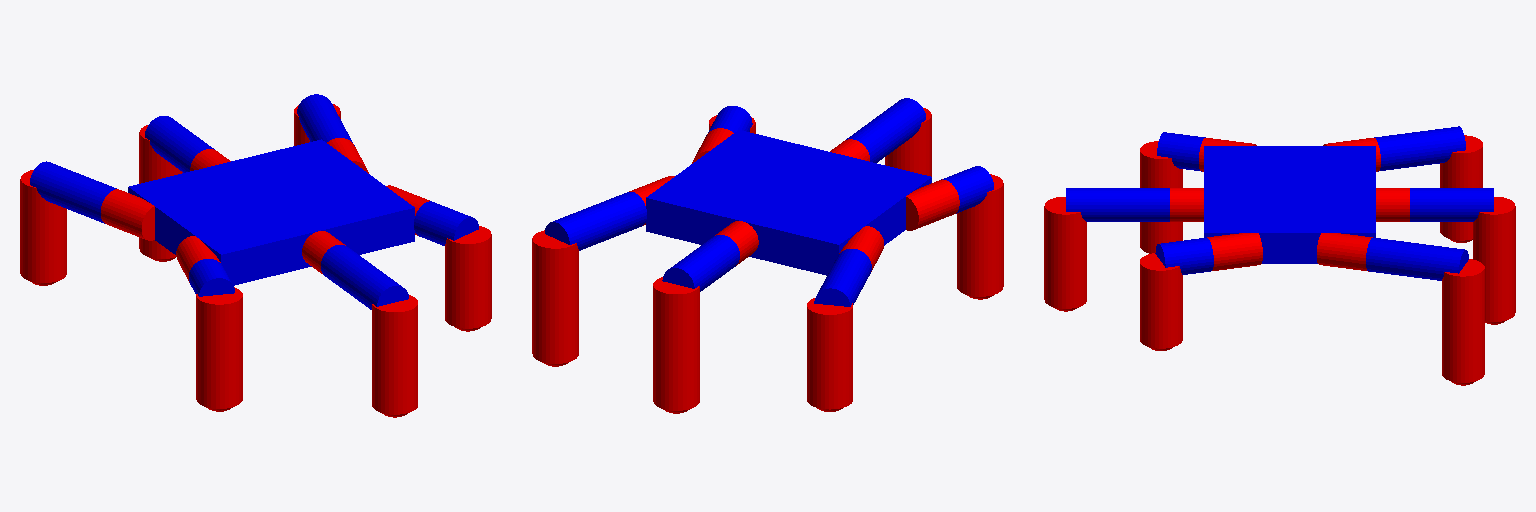
--- Facts derived from the render (not from the file) ---
Views: 3 orthographic renders of the robot side by side, from view 1: azimuth 30°, elevation 25°; view 2: azimuth 150°, elevation 25°; view 3: azimuth 270°, elevation 25°.
Model pexod with 19 links and 18 joints (18 revolute), rooted at base_link, posed every joint at zero.
Links seen in each view (by area): view 1: base_link, leg_5_3, leg_4_3, leg_3_3, leg_0_3, leg_4_2, leg_0_2, leg_1_2, leg_0_1, leg_3_2, leg_2_2, leg_1_3 (+3 smaller); view 2: base_link, leg_1_3, leg_2_3, leg_0_3, leg_5_3, leg_2_2, leg_4_2, leg_1_2, leg_0_2, leg_5_1, leg_4_3, leg_5_2 (+3 smaller); view 3: base_link, leg_2_3, leg_4_3, leg_1_3, leg_3_3, leg_4_2, leg_2_2, leg_0_2, leg_1_2, leg_5_3, leg_0_3, leg_2_1 (+5 smaller).
Boxes of the visible links, x1,y1,x2,y2 form: base_link: (128, 139, 414, 285); leg_5_3: (196, 287, 242, 411); leg_4_3: (372, 295, 417, 417); leg_3_3: (445, 226, 491, 331); leg_0_3: (20, 170, 66, 285); leg_4_2: (321, 245, 408, 309); leg_0_2: (30, 161, 116, 223); leg_1_2: (145, 116, 214, 172); leg_0_1: (101, 189, 154, 240); leg_3_2: (414, 201, 478, 245); leg_2_2: (297, 94, 354, 145); leg_1_3: (139, 125, 182, 261); base_link: (646, 130, 931, 275); leg_1_3: (653, 277, 699, 413); leg_2_3: (532, 230, 578, 366); leg_0_3: (807, 298, 852, 411); leg_5_3: (957, 174, 1003, 299); leg_2_2: (545, 192, 646, 250); leg_4_2: (846, 98, 925, 162); leg_1_2: (662, 235, 739, 291); leg_0_2: (814, 249, 871, 306); leg_5_1: (906, 179, 959, 230); leg_4_3: (885, 108, 931, 176); leg_5_2: (941, 166, 993, 213); base_link: (1204, 146, 1375, 263); leg_2_3: (1442, 259, 1484, 385); leg_4_3: (1044, 197, 1086, 311); leg_1_3: (1473, 197, 1515, 324); leg_3_3: (1140, 253, 1182, 350); leg_4_2: (1066, 188, 1169, 221); leg_2_2: (1366, 238, 1468, 280); leg_0_2: (1374, 126, 1465, 171); leg_1_2: (1410, 188, 1493, 221); leg_5_3: (1140, 141, 1182, 253); leg_0_3: (1440, 135, 1482, 242); leg_2_1: (1317, 233, 1372, 271).
Size in the robot's own frame: 0.3894 by 0.5484 by 0.1706 metres.
Geometry: primitives only (box / cylinder / sphere), no mesh files.

URDF robot description (pexod):
<?xml version="1.0" ?>
<!-- =================================================================================== -->
<!-- |    This document was autogenerated by xacro from pexod.xacro                    | -->
<!-- |    EDITING THIS FILE BY HAND IS NOT RECOMMENDED                                 | -->
<!-- =================================================================================== -->
<robot name="pexod" xmlns:xacro="http://www.ros.org/wiki/xacro">
  <!-- <xacro:include filename="$(find pexod_description)/urdf/pexod_control.xacro" /> -->
  <!-- MATERIALS -->
  <material name="Blue">
    <color rgba="0 0 1 1"/>
  </material>
  <material name="Red">
    <color rgba="1 0 0 1"/>
  </material>
  <material name="Green">
    <color rgba="0 1 0 1"/>
  </material>
  <material name="Yellow">
    <color rgba="1 1 0 1"/>
  </material>
  <material name="LightGrey">
    <color rgba="0.6 0.6 0.6 1.0"/>
  </material>
  <!-- END OF MATERIALS -->
  <!-- XACRO MACROS FOR VISUALS AND COLLISIONS -->
  <!-- END OF XACRO MACROS -->
  <!-- TORSO -->
  <link name="base_link">
    <visual>
      <origin rpy="0 0 0" xyz="0 0 0"/>
      <geometry>
        <box size="0.24 0.2 0.04"/>
      </geometry>
      <material name="Blue"/>
    </visual>
    <collision>
      <origin rpy="0 0 0" xyz="0 0 0"/>
      <geometry>
        <box size="0.24 0.2 0.04"/>
      </geometry>
    </collision>
    <inertial>
      <!-- CENTER OF MASS -->
      <origin rpy="0 0 0" xyz="0 0 0"/>
      <mass value="1.031"/>
      <!-- box inertia: 1/12*m(y^2+z^2), ... -->
      <inertia ixx="0.00357413333333" ixy="0" ixz="0" iyy="0.00508626666667" iyz="0" izz="0.00838546666667"/>
    </inertial>
  </link>
  <!-- XACRO MACRO FOR LEGS LINKS/JOINTS -->
  <!-- END OF LEG LINKS/JOINTS -->
  <joint name="body_leg_2" type="revolute">
    <parent link="base_link"/>
    <child link="leg_2_1"/>
    <limit effort="30.0" lower="-1.57079632679" upper="1.57079632679" velocity="7.0"/>
    <origin rpy="0 0 -0.3" xyz="0.11 0.04 0"/>
    <!-- <xacro:if value="${index == 5 or index == 4 or index == 3}">
                <axis xyz="0 0 1"/>
            </xacro:if>
            <xacro:if value="${index == 2 or index == 1 or index == 0}"> -->
    <axis xyz="0 0 1"/>
    <!-- </xacro:if> -->
    <dynamics damping="0.0"/>
  </joint>
  <link name="leg_2_1">
    <visual>
      <origin rpy="1.57079632679 0 0" xyz="0.01 0.03 0"/>
      <geometry>
        <cylinder length="0.06" radius="0.02"/>
      </geometry>
      <material name="Red"/>
    </visual>
    <collision>
      <origin rpy="1.57079632679 0 0" xyz="0.01 0.03 0"/>
      <geometry>
        <box size="0.02 0.02 0.06"/>
      </geometry>
    </collision>
    <inertial>
      <!-- CENTER OF MASS -->
      <origin rpy="1.57079632679 0 0" xyz="0.01 0.03 0"/>
      <mass value="0.02"/>
      <!-- box inertia: 1/12*m(y^2+z^2), ... -->
      <inertia ixx="6.66666666667e-06" ixy="0" ixz="0" iyy="6.66666666667e-06" iyz="0" izz="1.33333333333e-06"/>
    </inertial>
  </link>
  <joint name="leg_2_1_2" type="revolute">
    <parent link="leg_2_1"/>
    <child link="leg_2_2"/>
    <limit effort="30.0" lower="-0.78539816339" upper="0.78539816339" velocity="7.0"/>
    <origin rpy="0 0 0" xyz="0 0.06 0"/>
    <axis xyz="1 0 0"/>
    <dynamics damping="0.0"/>
  </joint>
  <link name="leg_2_2">
    <visual>
      <origin rpy="1.57079632679 0 0" xyz="0.01 0.056643253155 0"/>
      <geometry>
        <cylinder length="0.11328650631" radius="0.02"/>
      </geometry>
      <material name="Blue"/>
    </visual>
    <collision>
      <origin rpy="1.57079632679 0 0" xyz="0.01 0.056643253155 0"/>
      <geometry>
        <box size="0.02 0.02 0.11328650631"/>
      </geometry>
    </collision>
    <inertial>
      <!-- CENTER OF MASS -->
      <origin rpy="1.57079632679 0 0" xyz="0.01 0.056643253155 0"/>
      <mass value="0.184"/>
      <!-- box inertia: 1/12*m(y^2+z^2), ... -->
      <inertia ixx="0.000202918765183" ixy="0" ixz="0" iyy="0.000202918765183" iyz="0" izz="1.22666666667e-05"/>
    </inertial>
  </link>
  <joint name="leg_2_2_3" type="revolute">
    <parent link="leg_2_2"/>
    <child link="leg_2_3"/>
    <limit effort="30.0" lower="-0.78539816339" upper="0.78539816339" velocity="7.0"/>
    <origin rpy="-1.57079632679 0 0" xyz="0 0.11328650631 0"/>
    <axis xyz="-1 0 0"/>
    <dynamics damping="0.0"/>
  </joint>
  <link name="leg_2_3">
    <visual>
      <origin rpy="1.57079632679 0 0" xyz="0.0125 0.0683328255935 0"/>
      <geometry>
        <cylinder length="0.136665651187" radius="0.025"/>
      </geometry>
      <material name="Red"/>
    </visual>
    <visual>
      <origin rpy="1.57079632679 0 0" xyz="0.0125 0.124165651187 0"/>
      <geometry>
        <sphere radius="0.025"/>
      </geometry>
      <material name="Red"/>
    </visual>
    <collision>
      <origin rpy="1.57079632679 0 0" xyz="0.0125 0.0683328255935 0"/>
      <geometry>
        <box size="0.025 0.025 0.136665651187"/>
      </geometry>
    </collision>
    <collision>
      <origin rpy="1.57079632679 0 0" xyz="0.0125 0.124165651187 0"/>
      <geometry>
        <sphere radius="0.025"/>
      </geometry>
      <material name="Red"/>
    </collision>
    <inertial>
      <!-- CENTER OF MASS -->
      <origin rpy="1.57079632679 0 0" xyz="0.0125 0.0683328255935 0"/>
      <mass value="0.04"/>
      <!-- box inertia: 1/12*m(y^2+z^2), ... -->
      <inertia ixx="6.43416673812e-05" ixy="0" ixz="0" iyy="6.43416673812e-05" iyz="0" izz="4.16666666667e-06"/>
    </inertial>
  </link>
  <joint name="body_leg_3" type="revolute">
    <parent link="base_link"/>
    <child link="leg_3_1"/>
    <limit effort="30.0" lower="-1.57079632679" upper="1.57079632679" velocity="7.0"/>
    <origin rpy="0 0 0.3" xyz="0.11 -0.04 0"/>
    <!-- <xacro:if value="${index == 5 or index == 4 or index == 3}">
                <axis xyz="0 0 1"/>
            </xacro:if>
            <xacro:if value="${index == 2 or index == 1 or index == 0}"> -->
    <axis xyz="0 0 1"/>
    <!-- </xacro:if> -->
    <dynamics damping="0.0"/>
  </joint>
  <link name="leg_3_1">
    <visual>
      <origin rpy="1.57079632679 0 0" xyz="0.01 -0.03 0"/>
      <geometry>
        <cylinder length="0.06" radius="0.02"/>
      </geometry>
      <material name="Red"/>
    </visual>
    <collision>
      <origin rpy="1.57079632679 0 0" xyz="0.01 -0.03 0"/>
      <geometry>
        <box size="0.02 0.02 0.06"/>
      </geometry>
    </collision>
    <inertial>
      <!-- CENTER OF MASS -->
      <origin rpy="1.57079632679 0 0" xyz="0.01 -0.03 0"/>
      <mass value="0.02"/>
      <!-- box inertia: 1/12*m(y^2+z^2), ... -->
      <inertia ixx="6.66666666667e-06" ixy="0" ixz="0" iyy="6.66666666667e-06" iyz="0" izz="1.33333333333e-06"/>
    </inertial>
  </link>
  <joint name="leg_3_1_2" type="revolute">
    <parent link="leg_3_1"/>
    <child link="leg_3_2"/>
    <limit effort="30.0" lower="-0.78539816339" upper="0.78539816339" velocity="7.0"/>
    <origin rpy="0 0 0" xyz="0 -0.06 0"/>
    <axis xyz="-1 0 0"/>
    <dynamics damping="0.0"/>
  </joint>
  <link name="leg_3_2">
    <visual>
      <origin rpy="1.57079632679 0 0" xyz="0.01 -0.029395581462 0"/>
      <geometry>
        <cylinder length="0.0587911629241" radius="0.02"/>
      </geometry>
      <material name="Blue"/>
    </visual>
    <collision>
      <origin rpy="1.57079632679 0 0" xyz="0.01 -0.029395581462 0"/>
      <geometry>
        <box size="0.02 0.02 0.0587911629241"/>
      </geometry>
    </collision>
    <inertial>
      <!-- CENTER OF MASS -->
      <origin rpy="1.57079632679 0 0" xyz="0.01 -0.029395581462 0"/>
      <mass value="0.184"/>
      <!-- box inertia: 1/12*m(y^2+z^2), ... -->
      <inertia ixx="5.91314795155e-05" ixy="0" ixz="0" iyy="5.91314795155e-05" iyz="0" izz="1.22666666667e-05"/>
    </inertial>
  </link>
  <joint name="leg_3_2_3" type="revolute">
    <parent link="leg_3_2"/>
    <child link="leg_3_3"/>
    <limit effort="30.0" lower="-0.78539816339" upper="0.78539816339" velocity="7.0"/>
    <origin rpy="1.57079632679 0 0" xyz="0 -0.0587911629241 0"/>
    <axis xyz="1 0 0"/>
    <dynamics damping="0.0"/>
  </joint>
  <link name="leg_3_3">
    <visual>
      <origin rpy="1.57079632679 0 0" xyz="0.0125 -0.050085609076 0"/>
      <geometry>
        <cylinder length="0.100171218152" radius="0.025"/>
      </geometry>
      <material name="Red"/>
    </visual>
    <visual>
      <origin rpy="1.57079632679 0 0" xyz="0.0125 -0.087671218152 0"/>
      <geometry>
        <sphere radius="0.025"/>
      </geometry>
      <material name="Red"/>
    </visual>
    <collision>
      <origin rpy="1.57079632679 0 0" xyz="0.0125 -0.050085609076 0"/>
      <geometry>
        <box size="0.025 0.025 0.100171218152"/>
      </geometry>
    </collision>
    <collision>
      <origin rpy="1.57079632679 0 0" xyz="0.0125 -0.087671218152 0"/>
      <geometry>
        <sphere radius="0.025"/>
      </geometry>
      <material name="Red"/>
    </collision>
    <inertial>
      <!-- CENTER OF MASS -->
      <origin rpy="1.57079632679 0 0" xyz="0.0125 -0.050085609076 0"/>
      <mass value="0.04"/>
      <!-- box inertia: 1/12*m(y^2+z^2), ... -->
      <inertia ixx="3.55309098202e-05" ixy="0" ixz="0" iyy="3.55309098202e-05" iyz="0" izz="4.16666666667e-06"/>
    </inertial>
  </link>
  <joint name="body_leg_0" type="revolute">
    <parent link="base_link"/>
    <child link="leg_0_1"/>
    <limit effort="30.0" lower="-1.57079632679" upper="1.57079632679" velocity="7.0"/>
    <origin rpy="0 0 0.3" xyz="-0.13 0.04 0"/>
    <!-- <xacro:if value="${index == 5 or index == 4 or index == 3}">
                <axis xyz="0 0 1"/>
            </xacro:if>
            <xacro:if value="${index == 2 or index == 1 or index == 0}"> -->
    <axis xyz="0 0 1"/>
    <!-- </xacro:if> -->
    <dynamics damping="0.0"/>
  </joint>
  <link name="leg_0_1">
    <visual>
      <origin rpy="1.57079632679 0 0" xyz="0.01 0.03 0"/>
      <geometry>
        <cylinder length="0.06" radius="0.02"/>
      </geometry>
      <material name="Red"/>
    </visual>
    <collision>
      <origin rpy="1.57079632679 0 0" xyz="0.01 0.03 0"/>
      <geometry>
        <box size="0.02 0.02 0.06"/>
      </geometry>
    </collision>
    <inertial>
      <!-- CENTER OF MASS -->
      <origin rpy="1.57079632679 0 0" xyz="0.01 0.03 0"/>
      <mass value="0.02"/>
      <!-- box inertia: 1/12*m(y^2+z^2), ... -->
      <inertia ixx="6.66666666667e-06" ixy="0" ixz="0" iyy="6.66666666667e-06" iyz="0" izz="1.33333333333e-06"/>
    </inertial>
  </link>
  <joint name="leg_0_1_2" type="revolute">
    <parent link="leg_0_1"/>
    <child link="leg_0_2"/>
    <limit effort="30.0" lower="-0.78539816339" upper="0.78539816339" velocity="7.0"/>
    <origin rpy="0 0 0" xyz="0 0.06 0"/>
    <axis xyz="1 0 0"/>
    <dynamics damping="0.0"/>
  </joint>
  <link name="leg_0_2">
    <visual>
      <origin rpy="1.57079632679 0 0" xyz="0.01 0.051933983587 0"/>
      <geometry>
        <cylinder length="0.103867967174" radius="0.02"/>
      </geometry>
      <material name="Blue"/>
    </visual>
    <collision>
      <origin rpy="1.57079632679 0 0" xyz="0.01 0.051933983587 0"/>
      <geometry>
        <box size="0.02 0.02 0.103867967174"/>
      </geometry>
    </collision>
    <inertial>
      <!-- CENTER OF MASS -->
      <origin rpy="1.57079632679 0 0" xyz="0.01 0.051933983587 0"/>
      <mass value="0.184"/>
      <!-- box inertia: 1/12*m(y^2+z^2), ... -->
      <inertia ixx="0.000171557837275" ixy="0" ixz="0" iyy="0.000171557837275" iyz="0" izz="1.22666666667e-05"/>
    </inertial>
  </link>
  <joint name="leg_0_2_3" type="revolute">
    <parent link="leg_0_2"/>
    <child link="leg_0_3"/>
    <limit effort="30.0" lower="-0.78539816339" upper="0.78539816339" velocity="7.0"/>
    <origin rpy="-1.57079632679 0 0" xyz="0 0.103867967174 0"/>
    <axis xyz="-1 0 0"/>
    <dynamics damping="0.0"/>
  </joint>
  <link name="leg_0_3">
    <visual>
      <origin rpy="1.57079632679 0 0" xyz="0.0125 0.0560802887525 0"/>
      <geometry>
        <cylinder length="0.112160577505" radius="0.025"/>
      </geometry>
      <material name="Red"/>
    </visual>
    <visual>
      <origin rpy="1.57079632679 0 0" xyz="0.0125 0.099660577505 0"/>
      <geometry>
        <sphere radius="0.025"/>
      </geometry>
      <material name="Red"/>
    </visual>
    <collision>
      <origin rpy="1.57079632679 0 0" xyz="0.0125 0.0560802887525 0"/>
      <geometry>
        <box size="0.025 0.025 0.112160577505"/>
      </geometry>
    </collision>
    <collision>
      <origin rpy="1.57079632679 0 0" xyz="0.0125 0.099660577505 0"/>
      <geometry>
        <sphere radius="0.025"/>
      </geometry>
      <material name="Red"/>
    </collision>
    <inertial>
      <!-- CENTER OF MASS -->
      <origin rpy="1.57079632679 0 0" xyz="0.0125 0.0560802887525 0"/>
      <mass value="0.04"/>
      <!-- box inertia: 1/12*m(y^2+z^2), ... -->
      <inertia ixx="4.40166504875e-05" ixy="0" ixz="0" iyy="4.40166504875e-05" iyz="0" izz="4.16666666667e-06"/>
    </inertial>
  </link>
  <joint name="body_leg_5" type="revolute">
    <parent link="base_link"/>
    <child link="leg_5_1"/>
    <limit effort="30.0" lower="-1.57079632679" upper="1.57079632679" velocity="7.0"/>
    <origin rpy="0 0 -0.3" xyz="-0.13 -0.04 0"/>
    <!-- <xacro:if value="${index == 5 or index == 4 or index == 3}">
                <axis xyz="0 0 1"/>
            </xacro:if>
            <xacro:if value="${index == 2 or index == 1 or index == 0}"> -->
    <axis xyz="0 0 1"/>
    <!-- </xacro:if> -->
    <dynamics damping="0.0"/>
  </joint>
  <link name="leg_5_1">
    <visual>
      <origin rpy="1.57079632679 0 0" xyz="0.01 -0.03 0"/>
      <geometry>
        <cylinder length="0.06" radius="0.02"/>
      </geometry>
      <material name="Red"/>
    </visual>
    <collision>
      <origin rpy="1.57079632679 0 0" xyz="0.01 -0.03 0"/>
      <geometry>
        <box size="0.02 0.02 0.06"/>
      </geometry>
    </collision>
    <inertial>
      <!-- CENTER OF MASS -->
      <origin rpy="1.57079632679 0 0" xyz="0.01 -0.03 0"/>
      <mass value="0.02"/>
      <!-- box inertia: 1/12*m(y^2+z^2), ... -->
      <inertia ixx="6.66666666667e-06" ixy="0" ixz="0" iyy="6.66666666667e-06" iyz="0" izz="1.33333333333e-06"/>
    </inertial>
  </link>
  <joint name="leg_5_1_2" type="revolute">
    <parent link="leg_5_1"/>
    <child link="leg_5_2"/>
    <limit effort="30.0" lower="-0.78539816339" upper="0.78539816339" velocity="7.0"/>
    <origin rpy="0 0 0" xyz="0 -0.06 0"/>
    <axis xyz="-1 0 0"/>
    <dynamics damping="0.0"/>
  </joint>
  <link name="leg_5_2">
    <visual>
      <origin rpy="1.57079632679 0 0" xyz="0.01 -0.0254579998165 0"/>
      <geometry>
        <cylinder length="0.050915999633" radius="0.02"/>
      </geometry>
      <material name="Blue"/>
    </visual>
    <collision>
      <origin rpy="1.57079632679 0 0" xyz="0.01 -0.0254579998165 0"/>
      <geometry>
        <box size="0.02 0.02 0.050915999633"/>
      </geometry>
    </collision>
    <inertial>
      <!-- CENTER OF MASS -->
      <origin rpy="1.57079632679 0 0" xyz="0.01 -0.0254579998165 0"/>
      <mass value="0.184"/>
      <!-- box inertia: 1/12*m(y^2+z^2), ... -->
      <inertia ixx="4.58840649523e-05" ixy="0" ixz="0" iyy="4.58840649523e-05" iyz="0" izz="1.22666666667e-05"/>
    </inertial>
  </link>
  <joint name="leg_5_2_3" type="revolute">
    <parent link="leg_5_2"/>
    <child link="leg_5_3"/>
    <limit effort="30.0" lower="-0.78539816339" upper="0.78539816339" velocity="7.0"/>
    <origin rpy="1.57079632679 0 0" xyz="0 -0.050915999633 0"/>
    <axis xyz="1 0 0"/>
    <dynamics damping="0.0"/>
  </joint>
  <link name="leg_5_3">
    <visual>
      <origin rpy="1.57079632679 0 0" xyz="0.0125 -0.0617218844995 0"/>
      <geometry>
        <cylinder length="0.123443768999" radius="0.025"/>
      </geometry>
      <material name="Red"/>
    </visual>
    <visual>
      <origin rpy="1.57079632679 0 0" xyz="0.0125 -0.110943768999 0"/>
      <geometry>
        <sphere radius="0.025"/>
      </geometry>
      <material name="Red"/>
    </visual>
    <collision>
      <origin rpy="1.57079632679 0 0" xyz="0.0125 -0.0617218844995 0"/>
      <geometry>
        <box size="0.025 0.025 0.123443768999"/>
      </geometry>
    </collision>
    <collision>
      <origin rpy="1.57079632679 0 0" xyz="0.0125 -0.110943768999 0"/>
      <geometry>
        <sphere radius="0.025"/>
      </geometry>
      <material name="Red"/>
    </collision>
    <inertial>
      <!-- CENTER OF MASS -->
      <origin rpy="1.57079632679 0 0" xyz="0.0125 -0.0617218844995 0"/>
      <mass value="0.04"/>
      <!-- box inertia: 1/12*m(y^2+z^2), ... -->
      <inertia ixx="5.28778803489e-05" ixy="0" ixz="0" iyy="5.28778803489e-05" iyz="0" izz="4.16666666667e-06"/>
    </inertial>
  </link>
  <joint name="body_leg_1" type="revolute">
    <parent link="base_link"/>
    <child link="leg_1_1"/>
    <limit effort="30.0" lower="-1.57079632679" upper="1.57079632679" velocity="7.0"/>
    <origin rpy="0 0 0" xyz="-0.01 0.08 0"/>
    <!-- <xacro:if value="${index == 5 or index == 4 or index == 3}">
                <axis xyz="0 0 1"/>
            </xacro:if>
            <xacro:if value="${index == 2 or index == 1 or index == 0}"> -->
    <axis xyz="0 0 1"/>
    <!-- </xacro:if> -->
    <dynamics damping="0.0"/>
  </joint>
  <link name="leg_1_1">
    <visual>
      <origin rpy="1.57079632679 0 0" xyz="0.01 0.03 0"/>
      <geometry>
        <cylinder length="0.06" radius="0.02"/>
      </geometry>
      <material name="Red"/>
    </visual>
    <collision>
      <origin rpy="1.57079632679 0 0" xyz="0.01 0.03 0"/>
      <geometry>
        <box size="0.02 0.02 0.06"/>
      </geometry>
    </collision>
    <inertial>
      <!-- CENTER OF MASS -->
      <origin rpy="1.57079632679 0 0" xyz="0.01 0.03 0"/>
      <mass value="0.02"/>
      <!-- box inertia: 1/12*m(y^2+z^2), ... -->
      <inertia ixx="6.66666666667e-06" ixy="0" ixz="0" iyy="6.66666666667e-06" iyz="0" izz="1.33333333333e-06"/>
    </inertial>
  </link>
  <joint name="leg_1_1_2" type="revolute">
    <parent link="leg_1_1"/>
    <child link="leg_1_2"/>
    <limit effort="30.0" lower="-0.78539816339" upper="0.78539816339" velocity="7.0"/>
    <origin rpy="0 0 0" xyz="0 0.06 0"/>
    <axis xyz="1 0 0"/>
    <dynamics damping="0.0"/>
  </joint>
  <link name="leg_1_2">
    <visual>
      <origin rpy="1.57079632679 0 0" xyz="0.01 0.0488688450048 0"/>
      <geometry>
        <cylinder length="0.0977376900096" radius="0.02"/>
      </geometry>
      <material name="Blue"/>
    </visual>
    <collision>
      <origin rpy="1.57079632679 0 0" xyz="0.01 0.0488688450048 0"/>
      <geometry>
        <box size="0.02 0.02 0.0977376900096"/>
      </geometry>
    </collision>
    <inertial>
      <!-- CENTER OF MASS -->
      <origin rpy="1.57079632679 0 0" xyz="0.01 0.0488688450048 0"/>
      <mass value="0.184"/>
      <!-- box inertia: 1/12*m(y^2+z^2), ... -->
      <inertia ixx="0.000152607392742" ixy="0" ixz="0" iyy="0.000152607392742" iyz="0" izz="1.22666666667e-05"/>
    </inertial>
  </link>
  <joint name="leg_1_2_3" type="revolute">
    <parent link="leg_1_2"/>
    <child link="leg_1_3"/>
    <limit effort="30.0" lower="-0.78539816339" upper="0.78539816339" velocity="7.0"/>
    <origin rpy="-1.57079632679 0 0" xyz="0 0.0977376900096 0"/>
    <axis xyz="-1 0 0"/>
    <dynamics damping="0.0"/>
  </joint>
  <link name="leg_1_3">
    <visual>
      <origin rpy="1.57079632679 0 0" xyz="0.0125 0.069063156461 0"/>
      <geometry>
        <cylinder length="0.138126312922" radius="0.025"/>
      </geometry>
      <material name="Red"/>
    </visual>
    <visual>
      <origin rpy="1.57079632679 0 0" xyz="0.0125 0.125626312922 0"/>
      <geometry>
        <sphere radius="0.025"/>
      </geometry>
      <material name="Red"/>
    </visual>
    <collision>
      <origin rpy="1.57079632679 0 0" xyz="0.0125 0.069063156461 0"/>
      <geometry>
        <box size="0.025 0.025 0.138126312922"/>
      </geometry>
    </collision>
    <collision>
      <origin rpy="1.57079632679 0 0" xyz="0.0125 0.125626312922 0"/>
      <geometry>
        <sphere radius="0.025"/>
      </geometry>
      <material name="Red"/>
    </collision>
    <inertial>
      <!-- CENTER OF MASS -->
      <origin rpy="1.57079632679 0 0" xyz="0.0125 0.069063156461 0"/>
      <mass value="0.04"/>
      <!-- box inertia: 1/12*m(y^2+z^2), ... -->
      <inertia ixx="6.56795944048e-05" ixy="0" ixz="0" iyy="6.56795944048e-05" iyz="0" izz="4.16666666667e-06"/>
    </inertial>
  </link>
  <joint name="body_leg_4" type="revolute">
    <parent link="base_link"/>
    <child link="leg_4_1"/>
    <limit effort="30.0" lower="-1.57079632679" upper="1.57079632679" velocity="7.0"/>
    <origin rpy="0 0 0" xyz="-0.01 -0.08 0"/>
    <!-- <xacro:if value="${index == 5 or index == 4 or index == 3}">
                <axis xyz="0 0 1"/>
            </xacro:if>
            <xacro:if value="${index == 2 or index == 1 or index == 0}"> -->
    <axis xyz="0 0 1"/>
    <!-- </xacro:if> -->
    <dynamics damping="0.0"/>
  </joint>
  <link name="leg_4_1">
    <visual>
      <origin rpy="1.57079632679 0 0" xyz="0.01 -0.03 0"/>
      <geometry>
        <cylinder length="0.06" radius="0.02"/>
      </geometry>
      <material name="Red"/>
    </visual>
    <collision>
      <origin rpy="1.57079632679 0 0" xyz="0.01 -0.03 0"/>
      <geometry>
        <box size="0.02 0.02 0.06"/>
      </geometry>
    </collision>
    <inertial>
      <!-- CENTER OF MASS -->
      <origin rpy="1.57079632679 0 0" xyz="0.01 -0.03 0"/>
      <mass value="0.02"/>
      <!-- box inertia: 1/12*m(y^2+z^2), ... -->
      <inertia ixx="6.66666666667e-06" ixy="0" ixz="0" iyy="6.66666666667e-06" iyz="0" izz="1.33333333333e-06"/>
    </inertial>
  </link>
  <joint name="leg_4_1_2" type="revolute">
    <parent link="leg_4_1"/>
    <child link="leg_4_2"/>
    <limit effort="30.0" lower="-0.78539816339" upper="0.78539816339" velocity="7.0"/>
    <origin rpy="0 0 0" xyz="0 -0.06 0"/>
    <axis xyz="-1 0 0"/>
    <dynamics damping="0.0"/>
  </joint>
  <link name="leg_4_2">
    <visual>
      <origin rpy="1.57079632679 0 0" xyz="0.01 -0.0603408195785 0"/>
      <geometry>
        <cylinder length="0.120681639157" radius="0.02"/>
      </geometry>
      <material name="Blue"/>
    </visual>
    <collision>
      <origin rpy="1.57079632679 0 0" xyz="0.01 -0.0603408195785 0"/>
      <geometry>
        <box size="0.02 0.02 0.120681639157"/>
      </geometry>
    </collision>
    <inertial>
      <!-- CENTER OF MASS -->
      <origin rpy="1.57079632679 0 0" xyz="0.01 -0.0603408195785 0"/>
      <mass value="0.184"/>
      <!-- box inertia: 1/12*m(y^2+z^2), ... -->
      <inertia ixx="0.000229448889788" ixy="0" ixz="0" iyy="0.000229448889788" iyz="0" izz="1.22666666667e-05"/>
    </inertial>
  </link>
  <joint name="leg_4_2_3" type="revolute">
    <parent link="leg_4_2"/>
    <child link="leg_4_3"/>
    <limit effort="30.0" lower="-0.78539816339" upper="0.78539816339" velocity="7.0"/>
    <origin rpy="1.57079632679 0 0" xyz="0 -0.120681639157 0"/>
    <axis xyz="1 0 0"/>
    <dynamics damping="0.0"/>
  </joint>
  <link name="leg_4_3">
    <visual>
      <origin rpy="1.57079632679 0 0" xyz="0.0125 -0.0605628559885 0"/>
      <geometry>
        <cylinder length="0.121125711977" radius="0.025"/>
      </geometry>
      <material name="Red"/>
    </visual>
    <visual>
      <origin rpy="1.57079632679 0 0" xyz="0.0125 -0.108625711977 0"/>
      <geometry>
        <sphere radius="0.025"/>
      </geometry>
      <material name="Red"/>
    </visual>
    <collision>
      <origin rpy="1.57079632679 0 0" xyz="0.0125 -0.0605628559885 0"/>
      <geometry>
        <box size="0.025 0.025 0.121125711977"/>
      </geometry>
    </collision>
    <collision>
      <origin rpy="1.57079632679 0 0" xyz="0.0125 -0.108625711977 0"/>
      <geometry>
        <sphere radius="0.025"/>
      </geometry>
      <material name="Red"/>
    </collision>
    <inertial>
      <!-- CENTER OF MASS -->
      <origin rpy="1.57079632679 0 0" xyz="0.0125 -0.0605628559885 0"/>
      <mass value="0.04"/>
      <!-- box inertia: 1/12*m(y^2+z^2), ... -->
      <inertia ixx="5.09881270065e-05" ixy="0" ixz="0" iyy="5.09881270065e-05" iyz="0" izz="4.16666666667e-06"/>
    </inertial>
  </link>
  <!-- END OF LEG LINKS/JOINTS -->
</robot>
